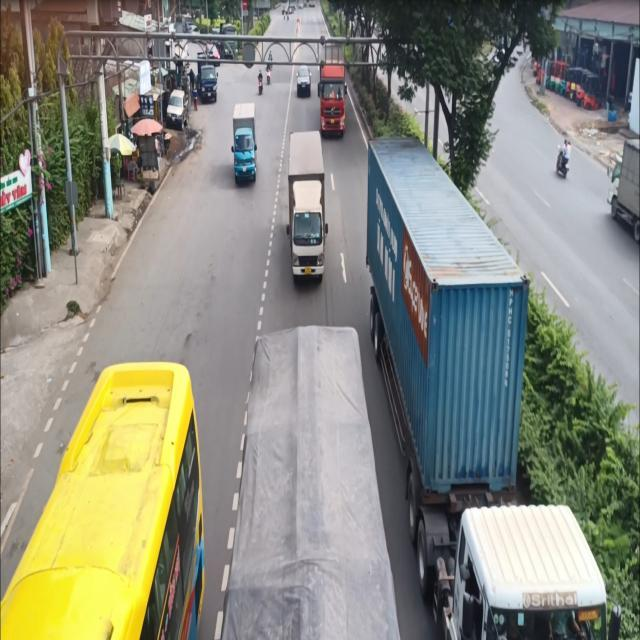bus: (0, 360, 205, 639)
container-truck: (356, 136, 626, 640)
truck: (237, 307, 401, 640), (284, 133, 336, 294), (226, 100, 267, 196), (317, 40, 353, 140), (604, 142, 640, 233)
